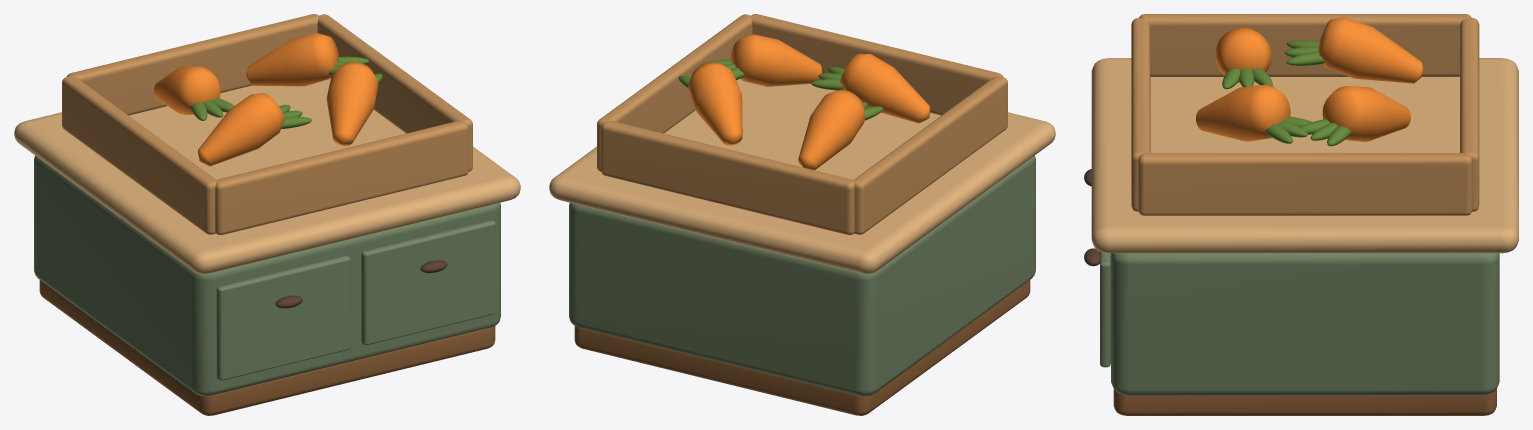
The model's file is source-carrot.obj.
The picture shows the model from 3 angles, left to right: view 1: azimuth 30°, elevation 25°; view 2: azimuth 150°, elevation 25°; view 3: azimuth 270°, elevation 25°; orthographic projection. The views are drawn at different scales.
Visible parts, largest first — view 1: source-carrot_sageDark, source-carrot_oak, source-carrot_oakLight, source-carrot_carrot, source-carrot_oakDark, source-carrot_leaf, source-carrot_cocoa; view 2: source-carrot_sageDark, source-carrot_oak, source-carrot_oakLight, source-carrot_carrot, source-carrot_oakDark, source-carrot_leaf; view 3: source-carrot_sageDark, source-carrot_oakLight, source-carrot_oak, source-carrot_carrot, source-carrot_oakDark, source-carrot_leaf.
Boxes of the visible parts, x1,y1,x2,y2 form: source-carrot_sageDark: (34, 155, 500, 396); source-carrot_oak: (62, 14, 472, 234); source-carrot_oakLight: (14, 78, 520, 274); source-carrot_carrot: (154, 33, 378, 166); source-carrot_oakDark: (39, 280, 495, 415); source-carrot_leaf: (191, 56, 382, 128); source-carrot_cocoa: (275, 260, 447, 308); source-carrot_sageDark: (569, 155, 1035, 396); source-carrot_oak: (597, 14, 1007, 234); source-carrot_oakLight: (549, 79, 1055, 274); source-carrot_carrot: (688, 34, 930, 170); source-carrot_oakDark: (574, 280, 1030, 415); source-carrot_leaf: (678, 59, 883, 120); source-carrot_sageDark: (1100, 251, 1499, 395); source-carrot_oakLight: (1091, 58, 1518, 253); source-carrot_oak: (1131, 14, 1479, 215); source-carrot_carrot: (1196, 17, 1423, 141); source-carrot_oakDark: (1113, 389, 1496, 415); source-carrot_leaf: (1222, 40, 1350, 146).
Size of the model in its own units: 0.78 by 0.5821 by 0.794.
